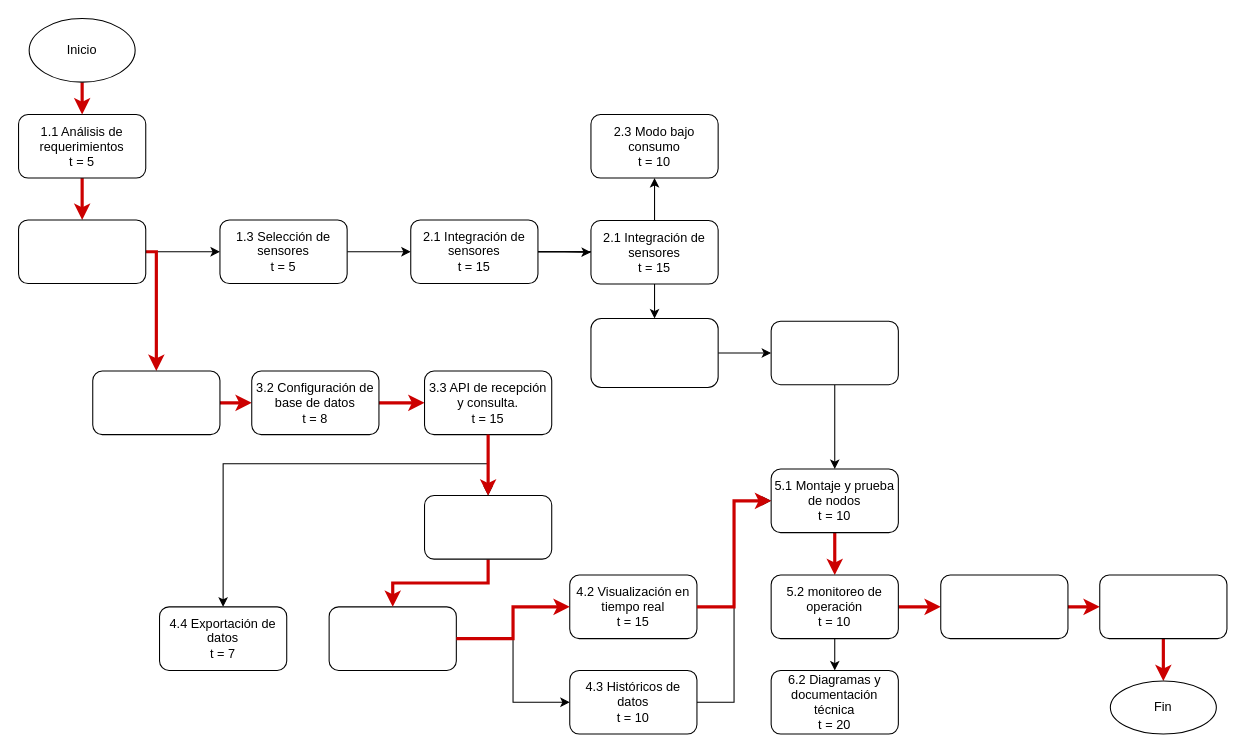
This 1245x753 diagram has some shape labels left out. Each missing label, with the centre of its shape:
"1.2 Diseño de arquitectura t = 8" goes at pixel 81 251.
"2.2 Procesamiento de señales t = 10" goes at pixel 654 352.
"2.4 Transmisión de datos t = 15" goes at pixel 834 352.
"3.1 Backend en servidor cloud t = 10" goes at pixel 156 402.
"3.4 Gestion de usuarios y autenticación (JWT) t = 10" goes at pixel 487 526.
"4.1 Diseño del dashbord 10" goes at pixel 392 638.
"6.1 Redacción de memoria t = 70" goes at pixel 1004 606.
"6.3 Preparación presentación final t = 15" goes at pixel 1163 606.
